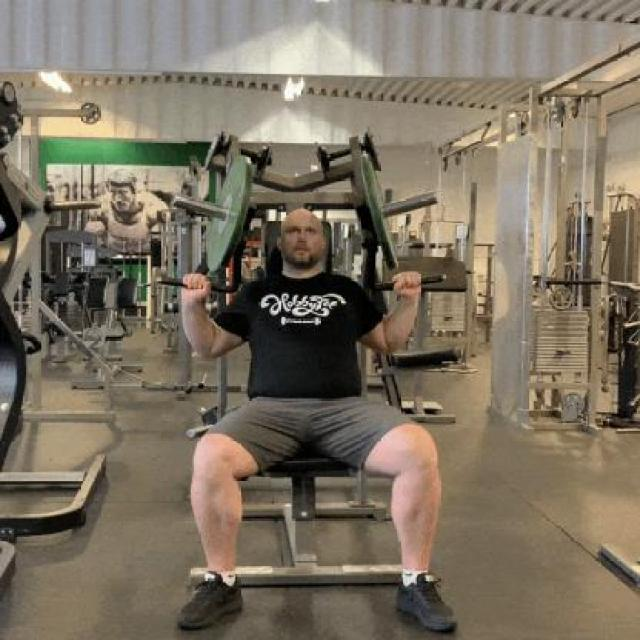Chest Press machine: (157, 124, 474, 638)
